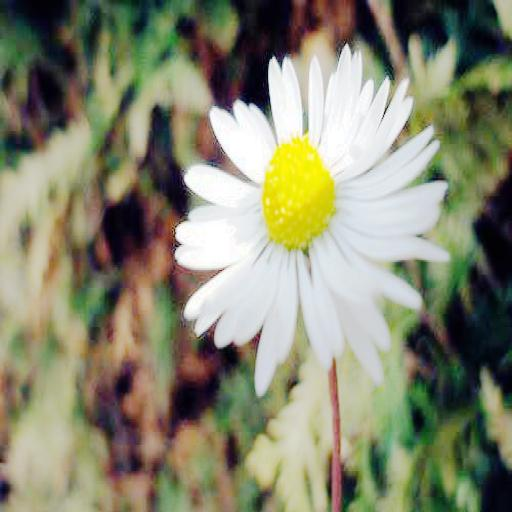daisy: (180, 50, 446, 362)
